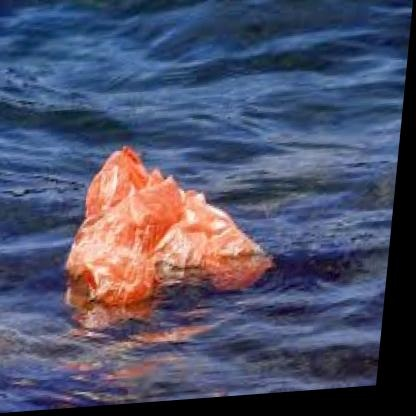trash: (66, 146, 271, 306)
